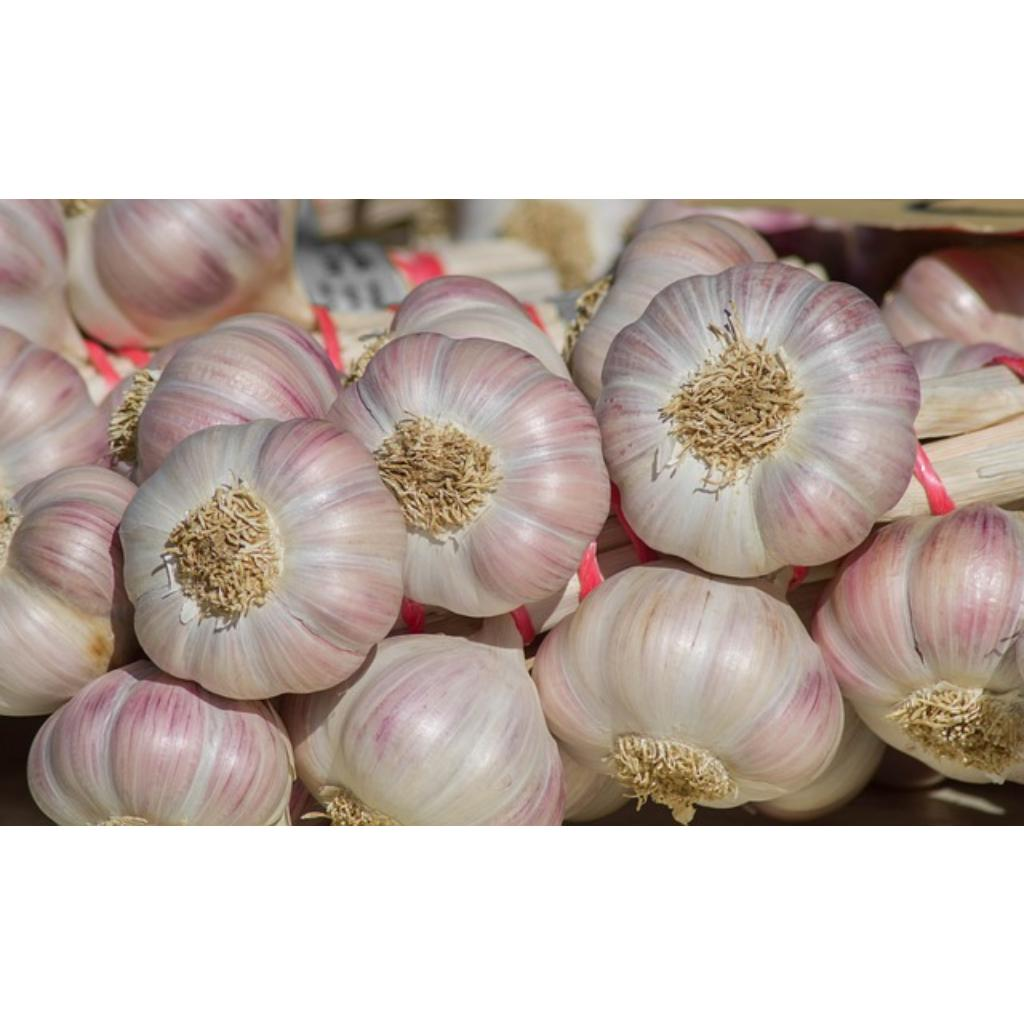garlic: (596, 262, 920, 575), (534, 560, 844, 821), (328, 332, 610, 616), (120, 418, 406, 697), (812, 504, 1024, 782), (280, 634, 562, 824), (30, 660, 294, 824), (66, 198, 310, 346), (0, 466, 142, 713), (136, 312, 342, 479), (572, 220, 752, 403), (0, 324, 108, 497), (390, 274, 526, 331)
